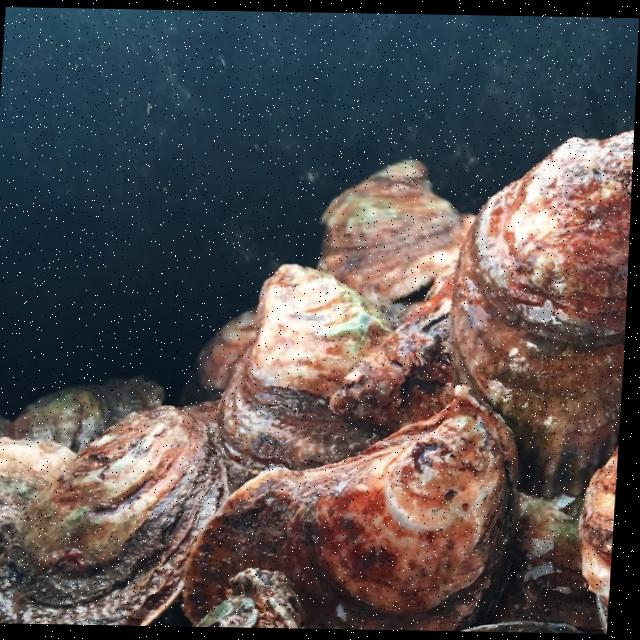Oyster-Indeterminate: (183, 396, 517, 632), (450, 130, 634, 499), (0, 404, 229, 626), (220, 264, 409, 468), (317, 159, 461, 304), (327, 270, 453, 432), (490, 496, 599, 630), (13, 375, 166, 451), (0, 438, 76, 548), (179, 402, 261, 495), (191, 308, 255, 399), (578, 452, 617, 601), (461, 621, 580, 634), (0, 416, 13, 439)
